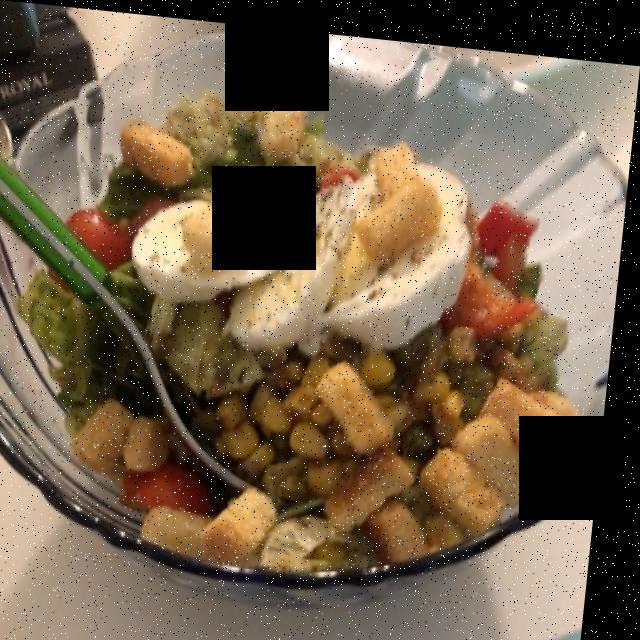bell-pepper-red-raw: (131, 188, 556, 505)
mozzarella: (125, 155, 465, 336)
sweet-corn-canned: (224, 316, 485, 486)
